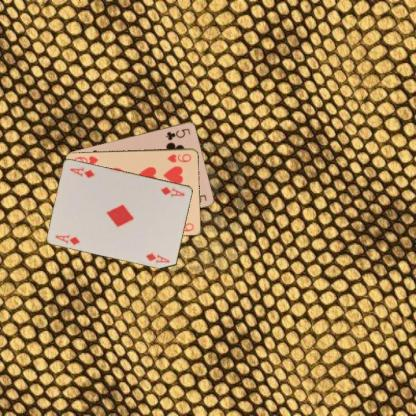5c: (163, 126, 192, 141)
9h: (165, 152, 192, 164)
Ad: (158, 184, 186, 198), (53, 232, 81, 246)
